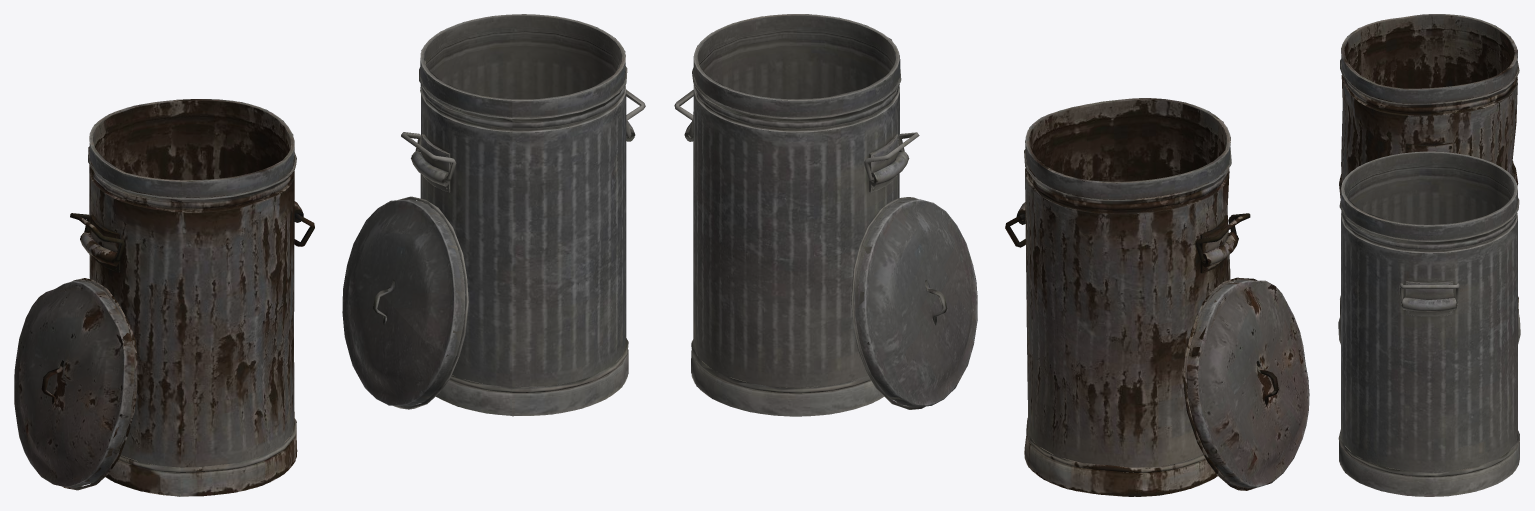
Rendered from ph_trash_can.gltf.
3 views of the same model, side by side, from view 1: azimuth 30°, elevation 25°; view 2: azimuth 150°, elevation 25°; view 3: azimuth 270°, elevation 25° (orthographic). The views are drawn at different scales.
Visible parts, largest first — view 1: Body; view 2: Body; view 3: Body.
Part boxes in pixels (x1=…): Body: x1=14, y1=14, x2=645, y2=496; Body: x1=674, y1=14, x2=1309, y2=496; Body: x1=1338, y1=14, x2=1520, y2=496.
Size of the model in its own units: 1.78 by 0.9063 by 0.5557.
3 materials, 3 textured.
